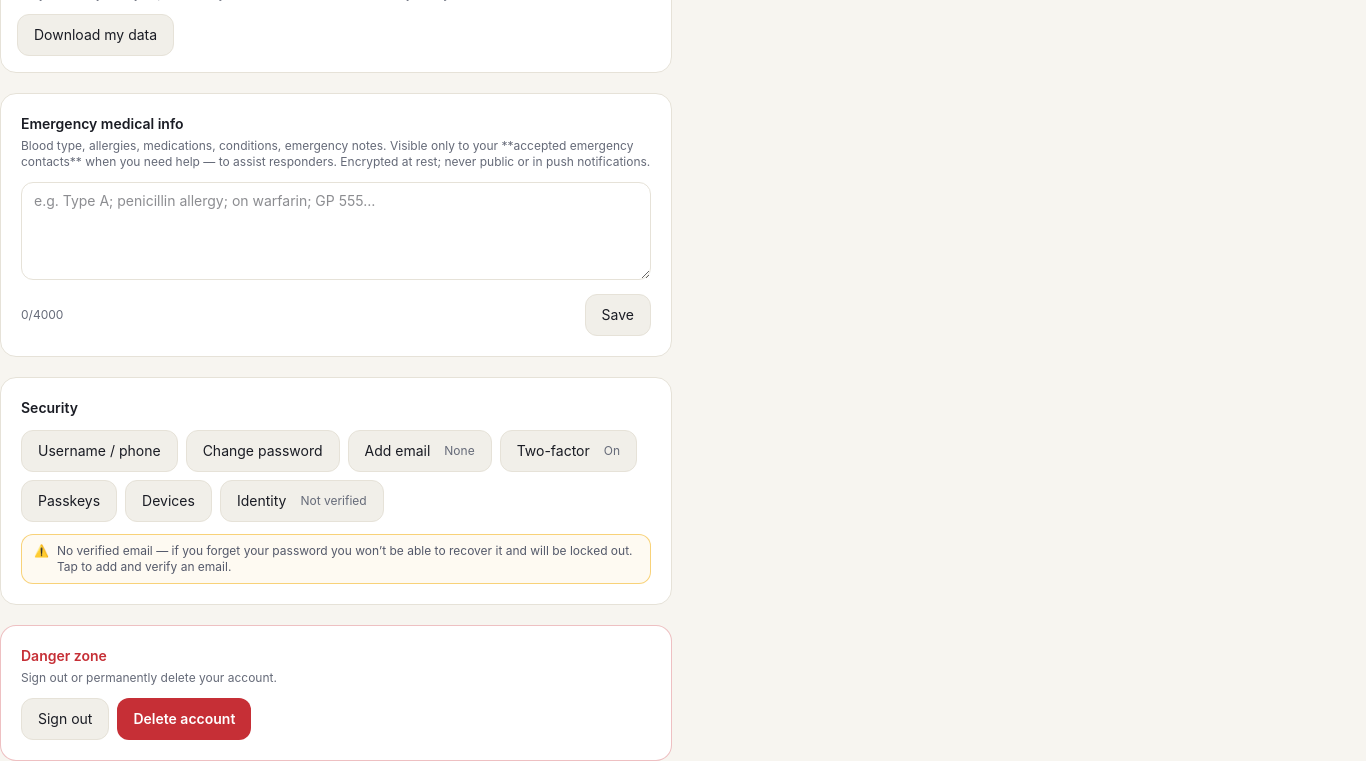
Test case: 两步验证恢复码剩余数：英文单复数正确 › 剩 2 个恢复码 → "2 recovery codes left"（复数）
(page scrolled)
Click the button "Two-factor On" at (568, 451), box [500,430,637,472]
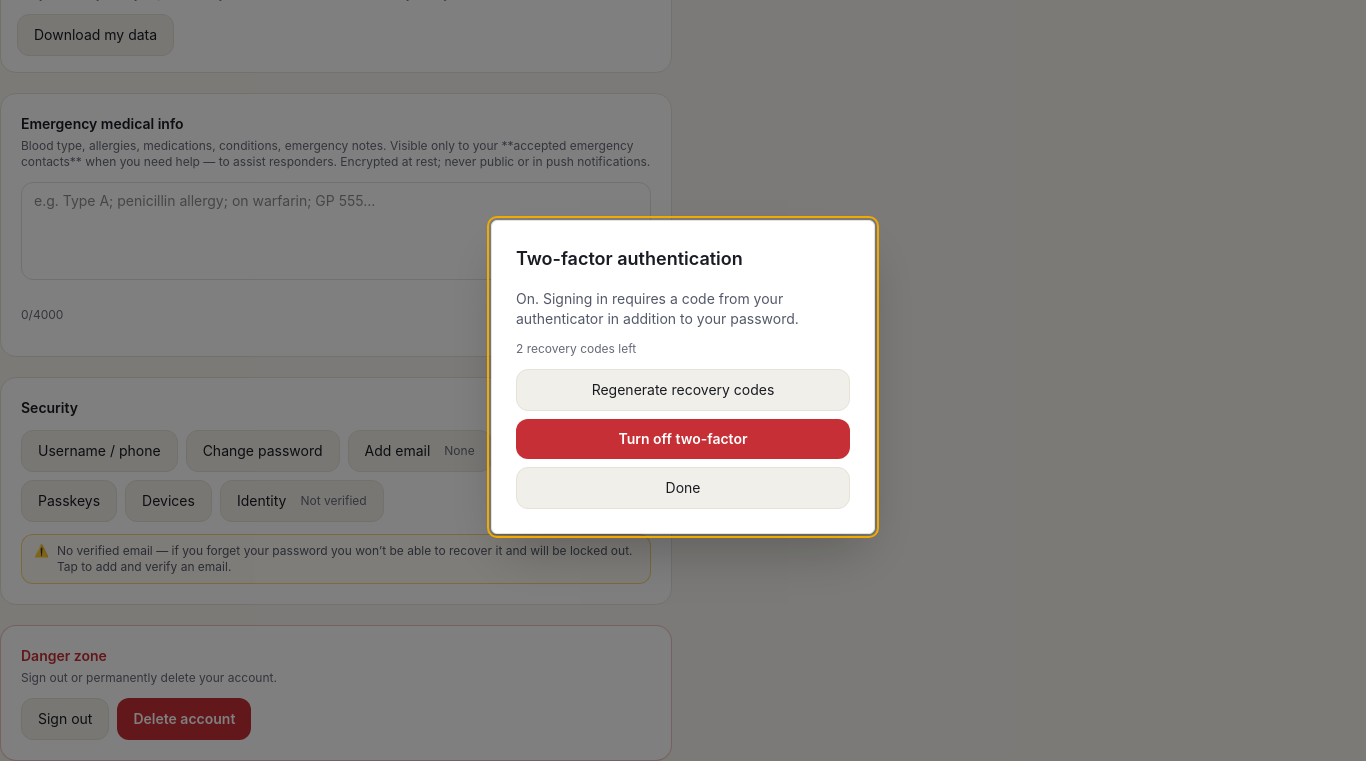
Expected: the text "2 recovery codes left" is shown, [516,341,636,356]
